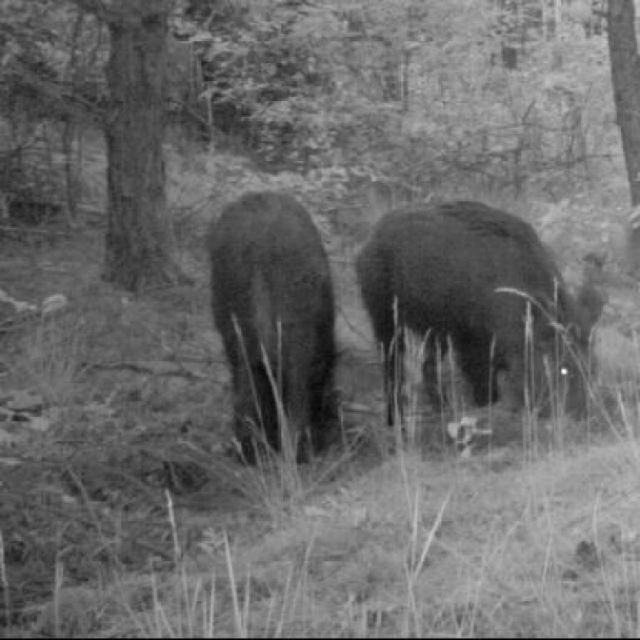Boar: (343, 165, 615, 477), (199, 180, 346, 465)
